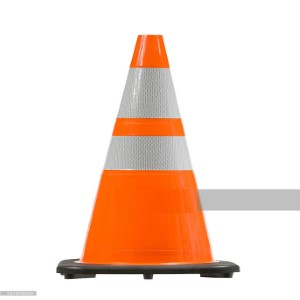traffic cone: (56, 33, 240, 278)
